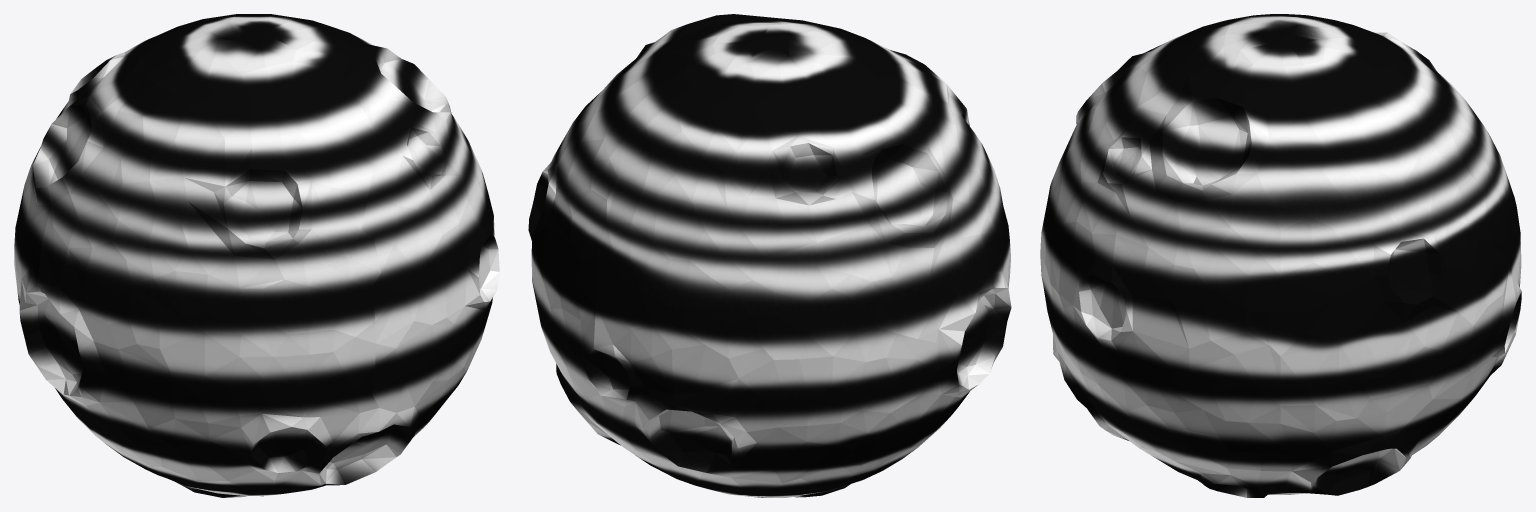
The model's file is SM_Env_Asteroid_Round_03.fbx.
3 views of the same model, side by side, from view 1: azimuth 30°, elevation 25°; view 2: azimuth 150°, elevation 25°; view 3: azimuth 270°, elevation 25° (orthographic).
Visible parts, largest first — view 1: SM_Env_Asteroid_Round_03_LOD0; view 2: SM_Env_Asteroid_Round_03_LOD0; view 3: SM_Env_Asteroid_Round_03_LOD0.
Part boxes in pixels (left/top/right/bottom): SM_Env_Asteroid_Round_03_LOD0: left=14, top=14, right=499, bottom=497; SM_Env_Asteroid_Round_03_LOD0: left=528, top=14, right=1011, bottom=497; SM_Env_Asteroid_Round_03_LOD0: left=1040, top=14, right=1521, bottom=497.
Size of the model in its own units: 24909 by 25399 by 25219.
1 material, 1 textured.
